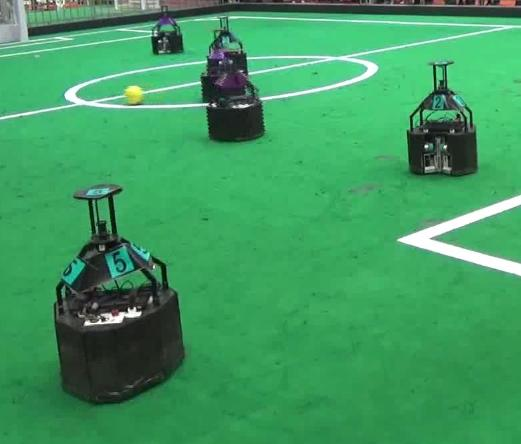robot: (47, 180, 190, 409), (400, 57, 483, 180), (204, 41, 268, 143)
